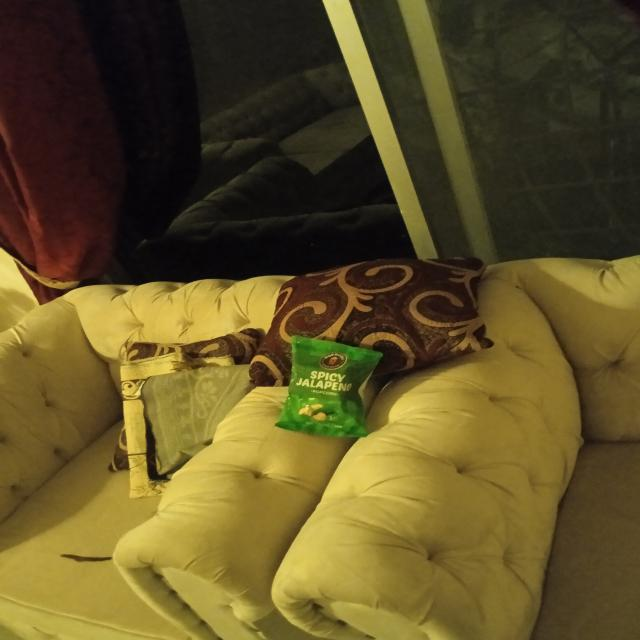Plastic: (275, 329, 396, 449)
